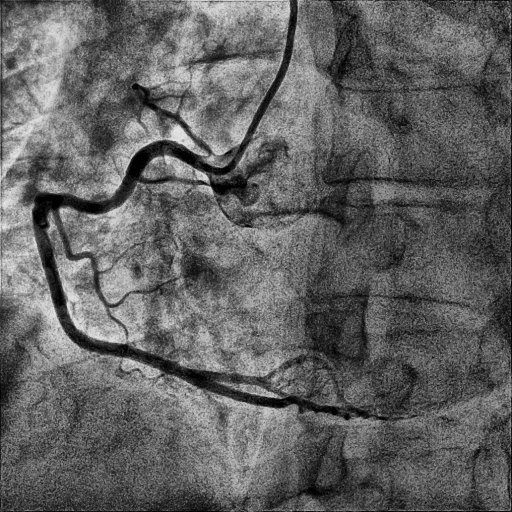pborca: (213, 355, 345, 401)
pda: (210, 383, 350, 422)
rca: (32, 140, 214, 390)
